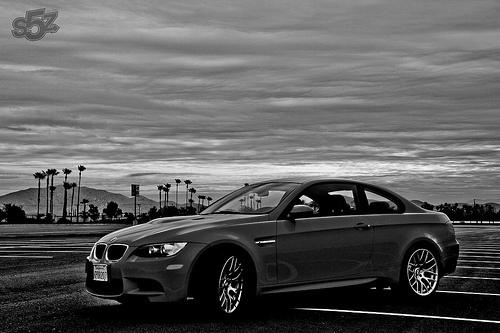car: (86, 178, 462, 315)
